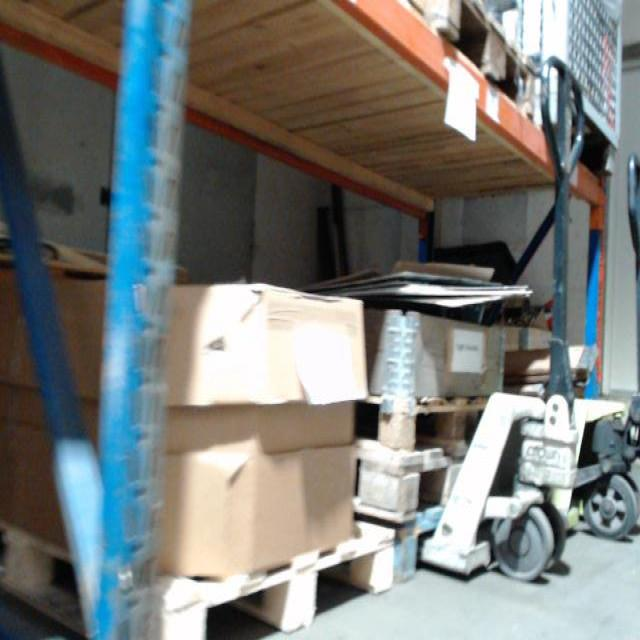pallet: (3, 510, 398, 635), (366, 4, 538, 127), (356, 399, 486, 451), (359, 456, 461, 522), (400, 523, 432, 583)
pallet_truck: (357, 37, 588, 591), (555, 138, 639, 548)
stillage: (500, 3, 627, 181)
